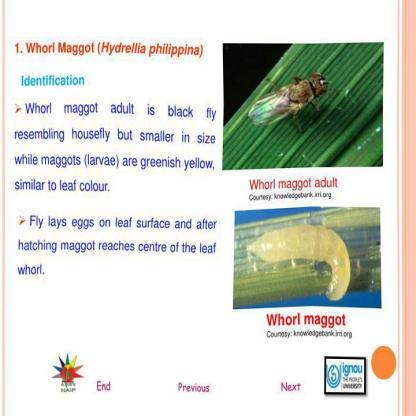whorl-maggot: (241, 220, 357, 303)
